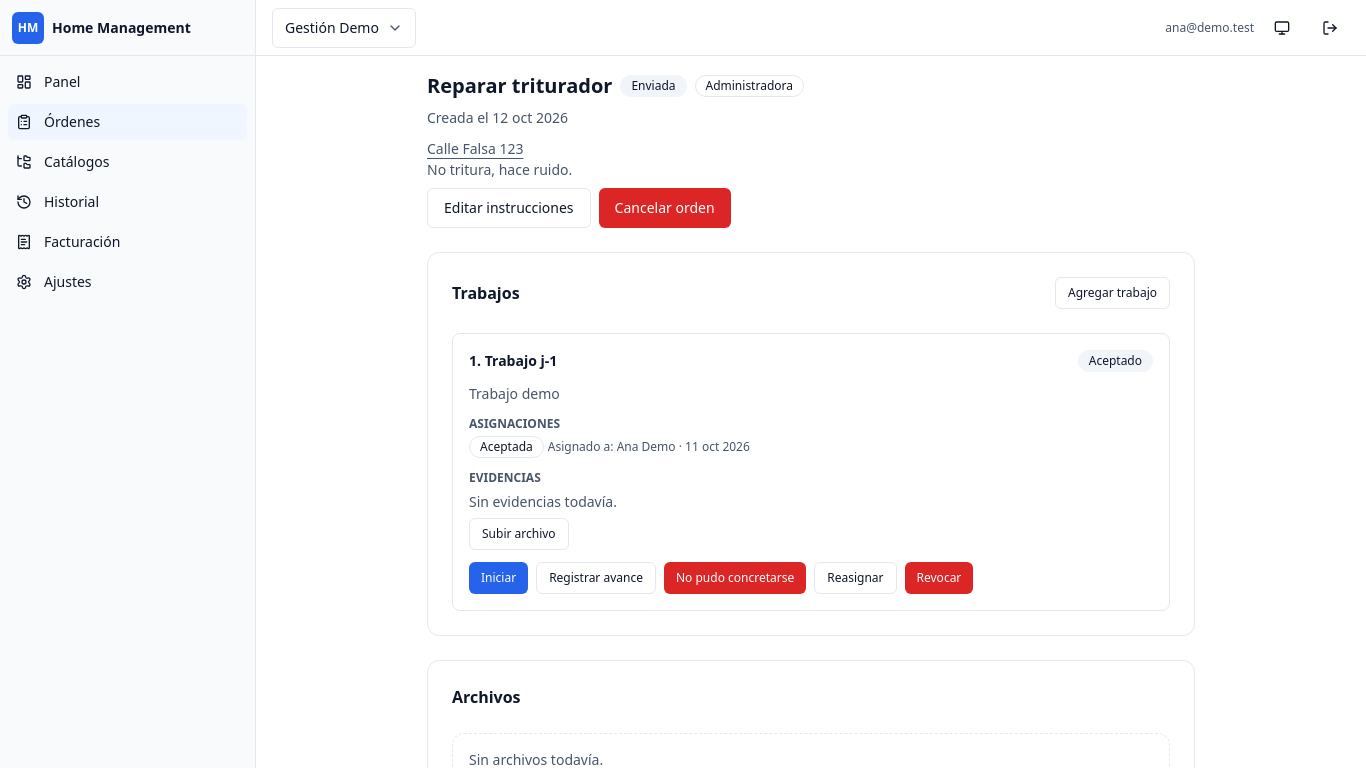
Test: order detail (spec F4 §2.3, AC-F4.4…AC-F4.10) › surfaces a 409 as the server detail and refetches (AC-F4.12)
What coordinates should you click on to do the following:
click the button "Iniciar"
I would click on:
 (499, 578)
Its box is 469,562 -> 528,594.
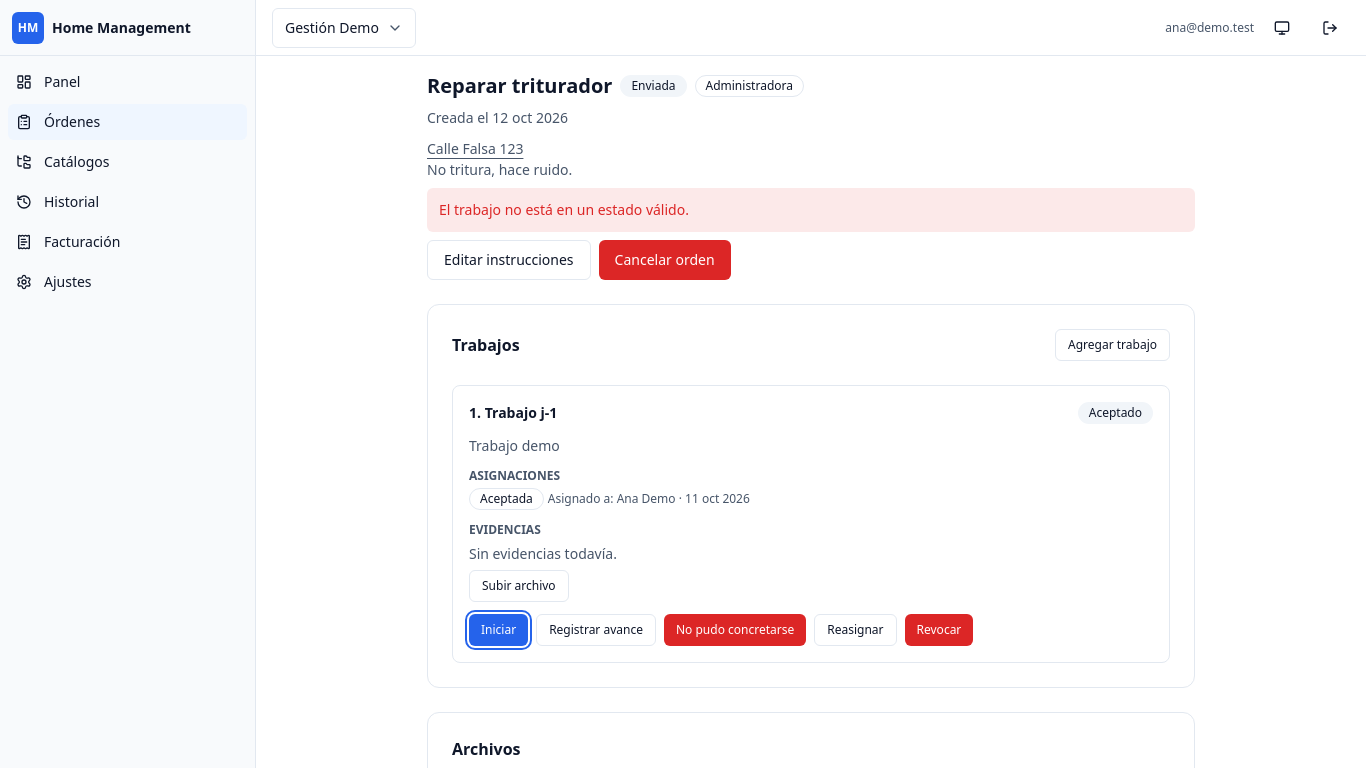
Expected: the text "El trabajo no está en un estado válido." is shown, 427,188 -> 1195,232
